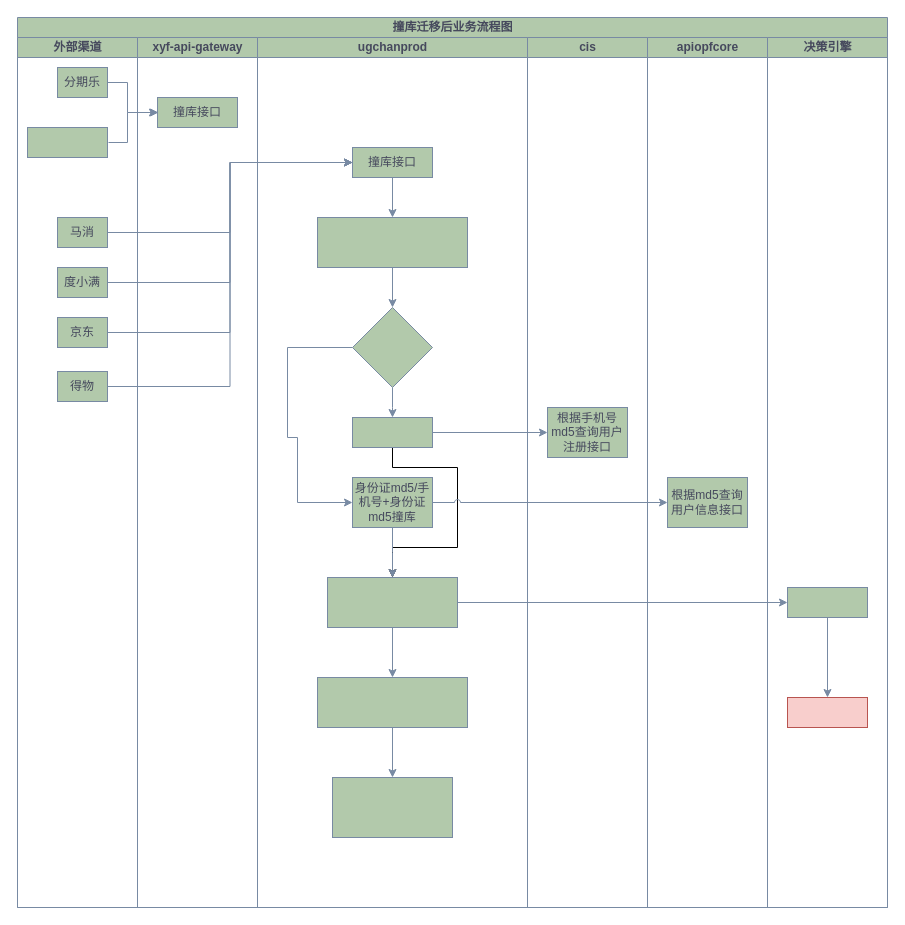
The diagram is 905 pixels wide and 925 high, and some of its shapes have lost their labels. Here are the shapes that lost their labels. From the top down, the centre of each, then its label:
(x=67, y=142): 还呗、小赢等
(x=392, y=242): 并行获取撞库配置、超时降级配置、陪跑切流配置
(x=392, y=347): 撞库方式
(x=392, y=432): 手机号md5撞库
(x=392, y=602): 根据老客的用户号、客户号数据请求撞库决策
(x=827, y=602): 撞库决策接口
(x=392, y=702): 决策超时降级为默认结果、 大批量超时熔断 耗时/熔断/降级监控
(x=827, y=712): 撞库数据营销？
(x=392, y=807): 撞库结果落库
